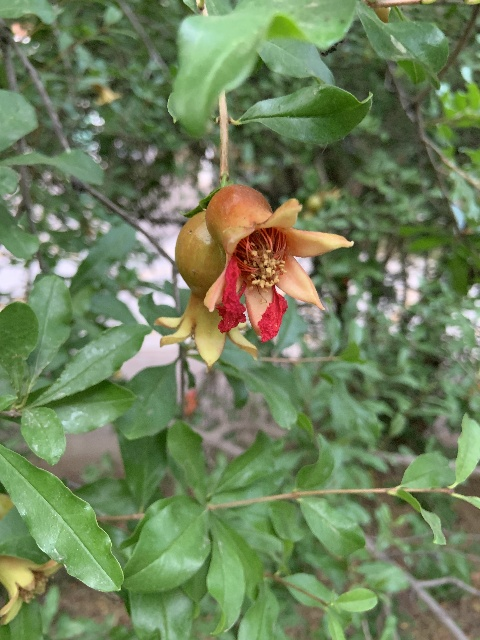early-fruit: (203, 185, 354, 340), (153, 209, 259, 370)
